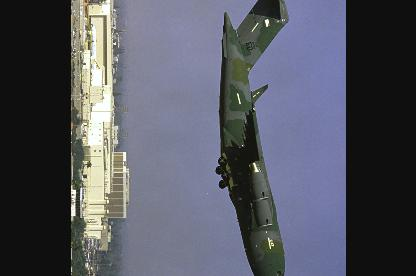C2: (215, 0, 290, 273)
